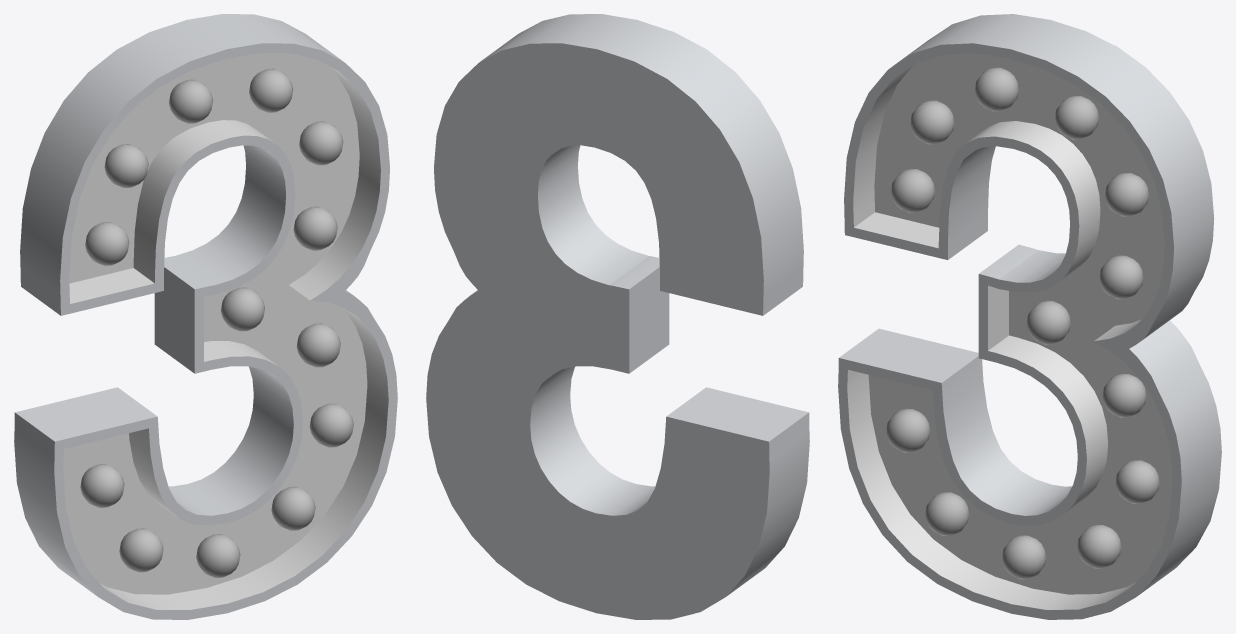
File: LettersBulb01_3.FBX
The picture shows the model from 3 angles, left to right: view 1: azimuth 30°, elevation 25°; view 2: azimuth 150°, elevation 25°; view 3: azimuth 330°, elevation 25°; orthographic projection.
Parts seen in each view (by area): view 1: LettersBulb01_3; view 2: LettersBulb01_3; view 3: LettersBulb01_3.
Boxes of the visible parts, left/top/right/bottom form: LettersBulb01_3: left=14, top=14, right=397, bottom=619; LettersBulb01_3: left=426, top=14, right=809, bottom=619; LettersBulb01_3: left=838, top=14, right=1221, bottom=619.
Size of what is drawn, in the model's own units: 0.7706 by 1.21 by 0.1563.
